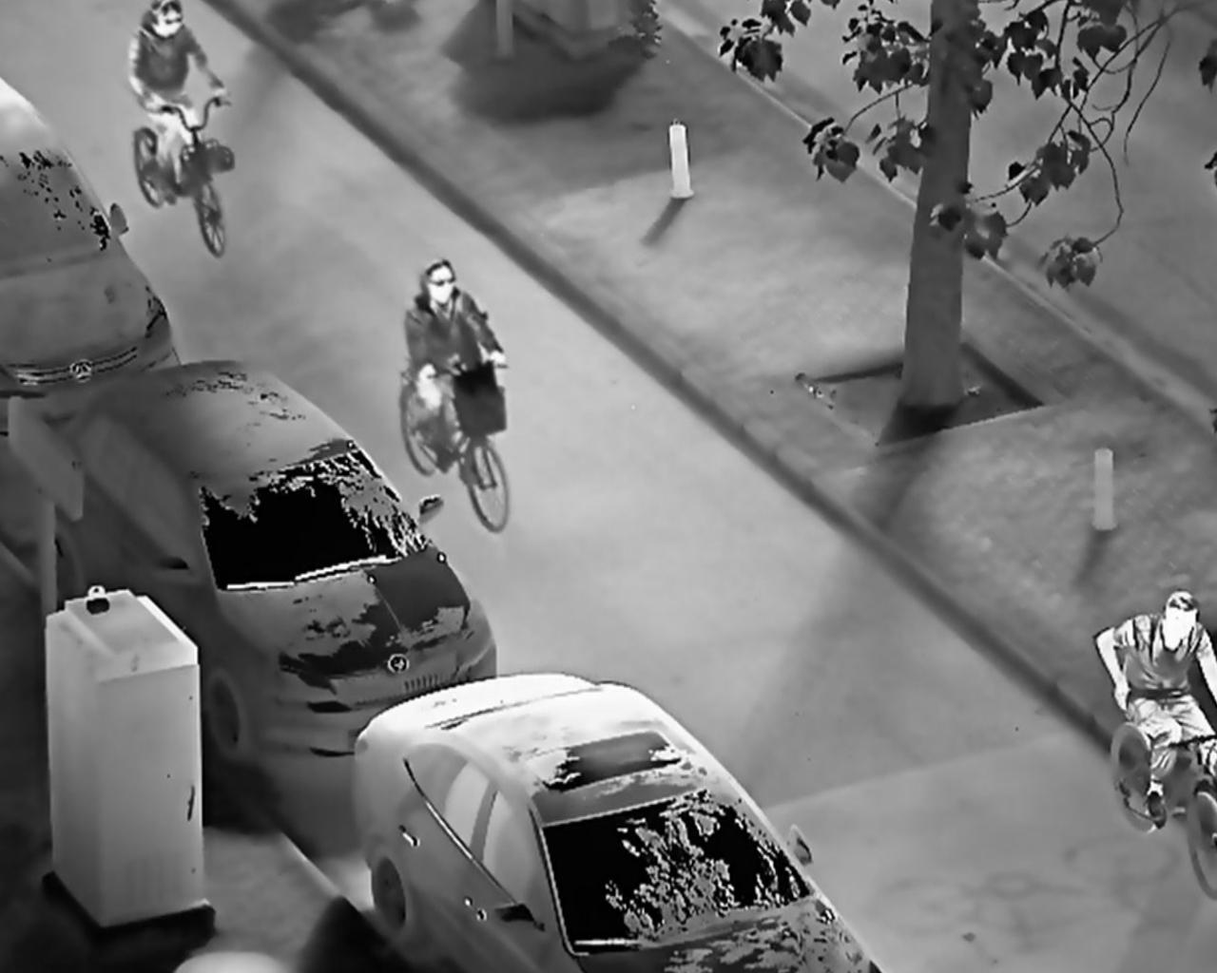person: (1090, 586, 1217, 832), (401, 255, 513, 480)
